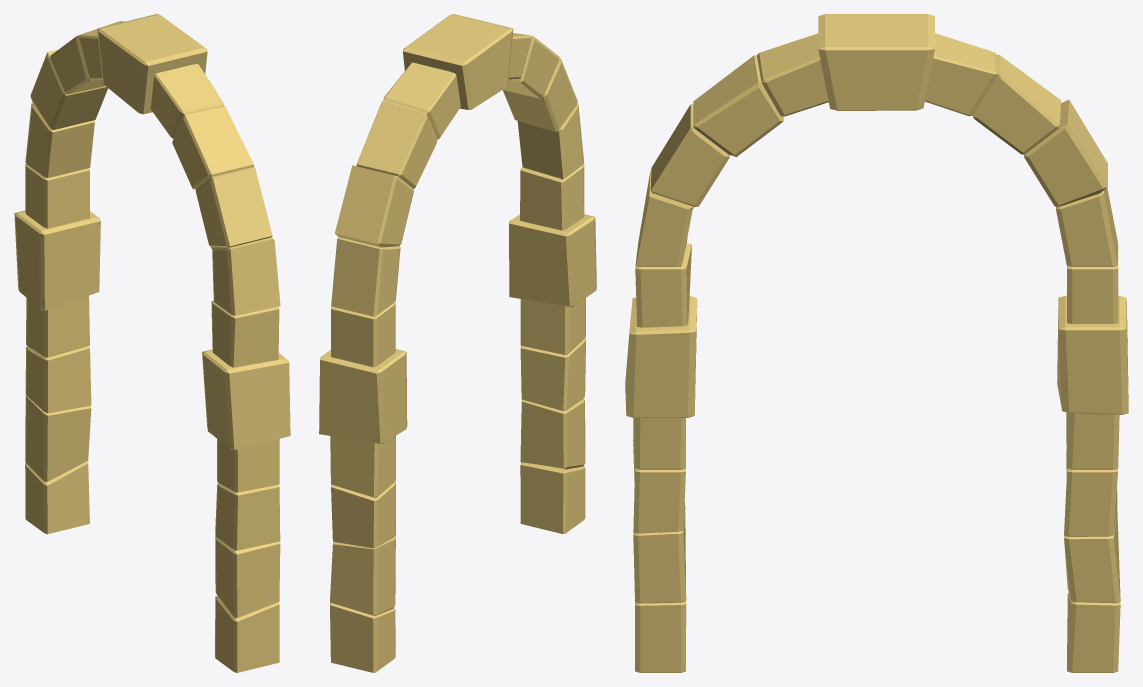
Rendered from Arch.fbx.
3 views of the same model, side by side, from view 1: azimuth 30°, elevation 25°; view 2: azimuth 150°, elevation 25°; view 3: azimuth 270°, elevation 25° (orthographic). The views are drawn at different scales.
Parts seen in each view (by area): view 1: arch; view 2: arch; view 3: arch.
Part boxes in pixels (left/top/right/bottom): arch: left=14, top=14, right=290, bottom=672; arch: left=319, top=14, right=596, bottom=672; arch: left=625, top=14, right=1128, bottom=672.
Size of the model in its own units: 93.69 by 776 by 562.
